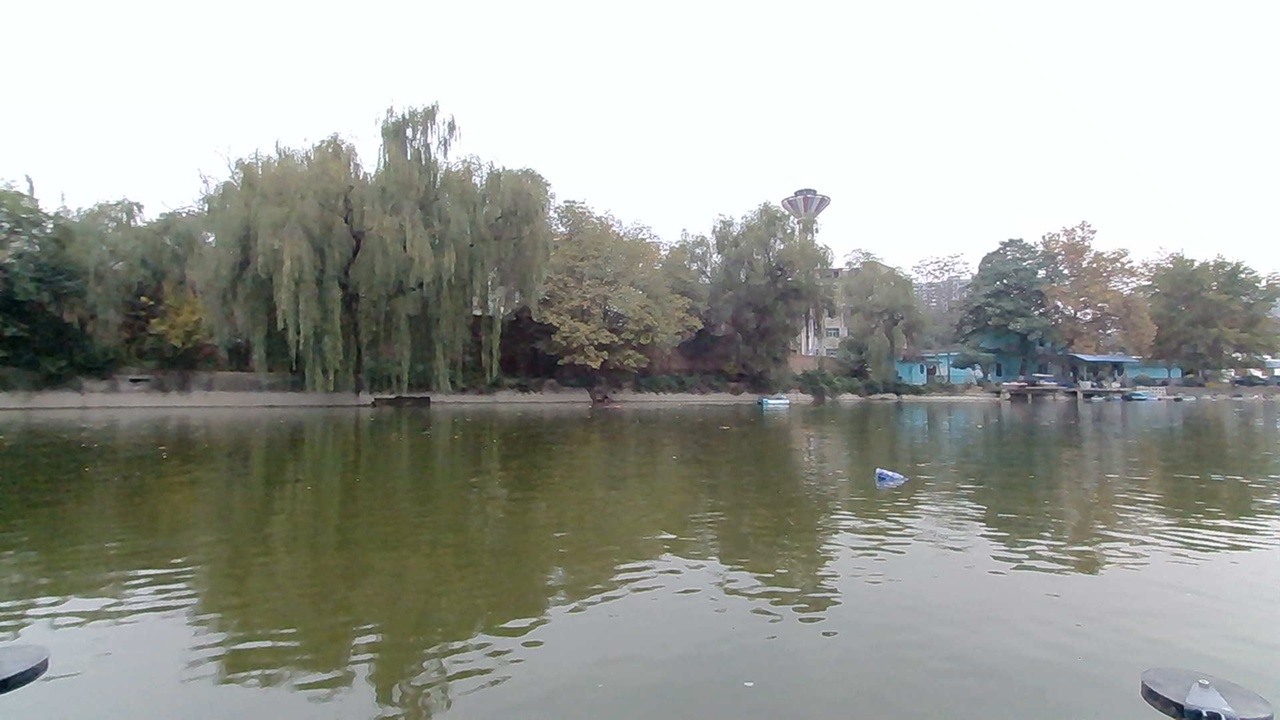bottle: (870, 462, 915, 496)
